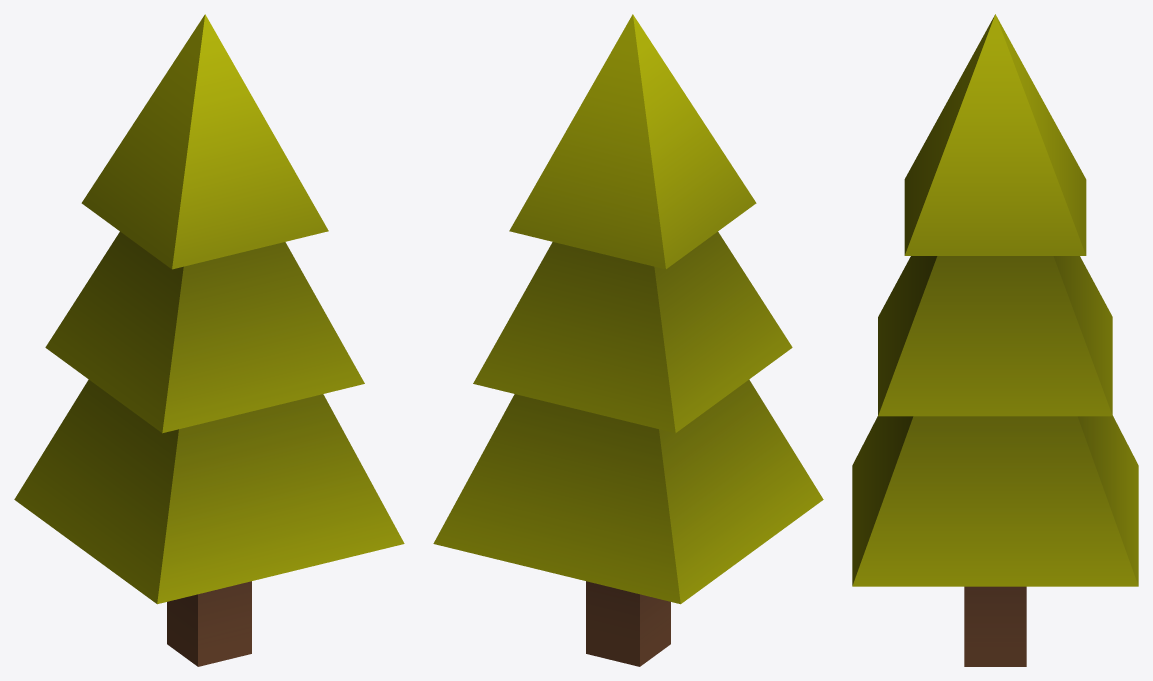
Rendered from Tree.fbx.
3 renders of one model, left to right at view 1: azimuth 30°, elevation 25°; view 2: azimuth 150°, elevation 25°; view 3: azimuth 270°, elevation 25°, orthographic.
Visible parts, largest first — view 1: Tree; view 2: Tree; view 3: Tree.
Boxes of the visible parts, x1,y1,x2,y2 form: Tree: [14, 14, 404, 666]; Tree: [433, 14, 823, 666]; Tree: [852, 14, 1138, 666].
Size of the model in its own units: 0.5486 by 0.5486 by 1.35.
